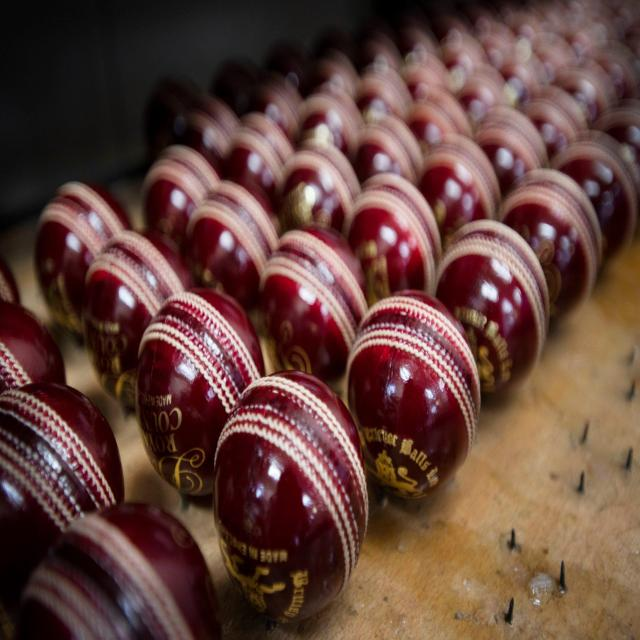ball: (208, 362, 376, 620)
